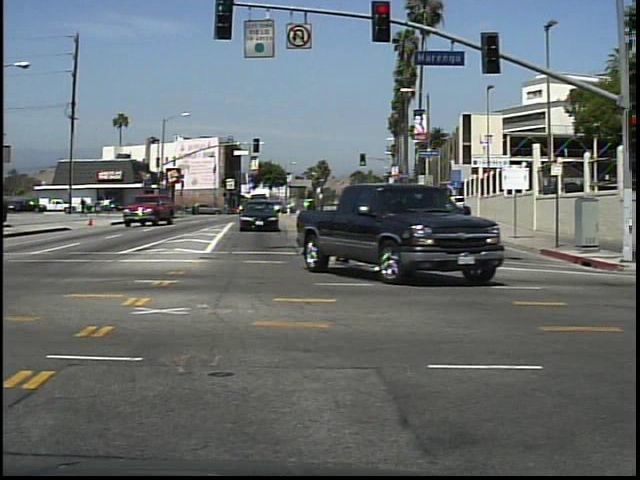person: (80, 193, 93, 219)
